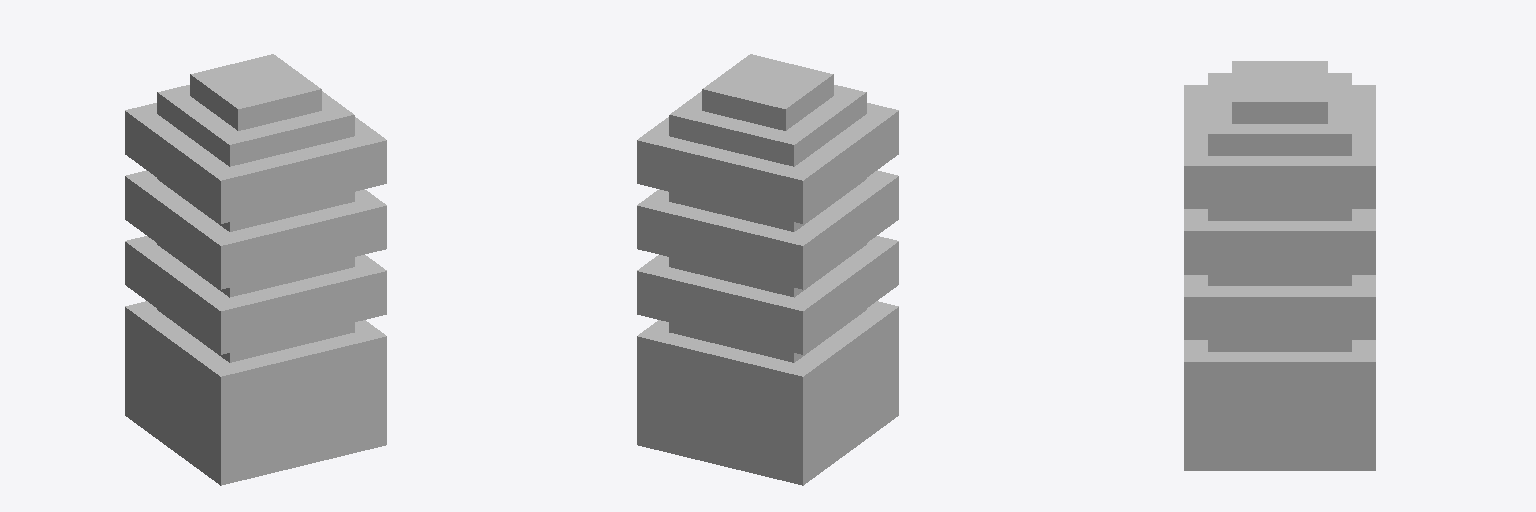
Rendered from connectorIV.obj.
The picture shows the model from 3 angles: view 1: azimuth 30°, elevation 25°; view 2: azimuth 150°, elevation 25°; view 3: azimuth 270°, elevation 25°; orthographic projection.
Visible parts, largest first — view 1: cube; view 2: cube; view 3: cube.
Part boxes in pixels (x1,y1,x2,y2): cube: (125,54,386,485); cube: (637,54,898,485); cube: (1184,61,1375,470).
Size of the model in its own units: 0.25 by 0.5 by 0.25.